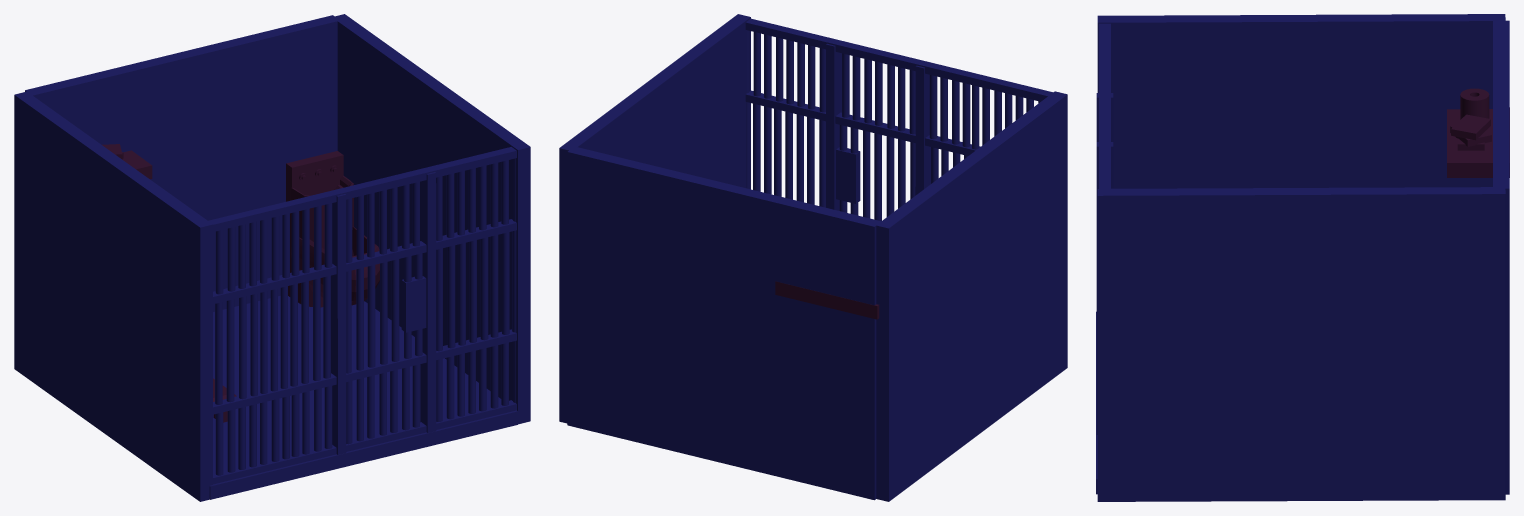
3 renders of one model, left to right at view 1: azimuth 30°, elevation 25°; view 2: azimuth 150°, elevation 25°; view 3: azimuth 270°, elevation 25°, orthographic. The views are drawn at different scales.
Visible parts, largest first — view 1: Wall_2, Wall_1, Wall_3, Middle_Bars, Floor, Top_Bars, Bottom_Bars, Door_Frame, Top_and_Bottom_Seperator_Bars, Middle_Seperator_Bars, Sink_and_Toilet1, Door_Handle; view 2: Wall_1, Wall_2, Wall_3, Top_Bars, Middle_Bars, Door_Frame, Top_and_Bottom_Seperator_Bars, Middle_Seperator_Bars, Shelf, Door_Handle; view 3: Wall_3, Wall_2, Wall_1, Top_and_Bottom_Seperator_Bars, Shelf, Books, Door_Frame, Toilet_Roll.
Part boxes in pixels (x1,y1,x2,y2): Wall_2: (14,91,212,501); Wall_1: (25,15,339,311); Wall_3: (332,14,530,424); Middle_Bars: (215,230,516,404); Floor: (209,296,517,499); Top_Bars: (215,158,515,294); Bottom_Bars: (215,341,515,475); Door_Frame: (331,172,436,454); Top_and_Bottom_Seperator_Bars: (208,147,516,484); Middle_Seperator_Bars: (213,219,516,414); Sink_and_Toilet1: (286,151,379,307); Door_Handle: (401,276,426,332); Wall_1: (567,146,881,500); Wall_2: (876,91,1067,501); Wall_3: (559,14,750,423); Top_Bars: (746,30,1040,149); Middle_Bars: (746,102,967,221); Door_Frame: (826,43,930,210); Top_and_Bottom_Seperator_Bars: (745,18,1052,101); Middle_Seperator_Bars: (745,90,980,155); Shelf: (775,281,879,319); Door_Handle: (836,147,860,203); Wall_3: (1097,187,1505,501); Wall_2: (1097,14,1505,188); Wall_1: (1493,20,1509,494); Top_and_Bottom_Seperator_Bars: (1099,23,1110,188); Shelf: (1447,107,1509,177); Books: (1450,114,1491,150); Door_Frame: (1096,93,1113,434); Toilet_Roll: (1460,88,1489,119).
Bounding box in the file's own units: 25.95 × 20.37 × 24.95.
